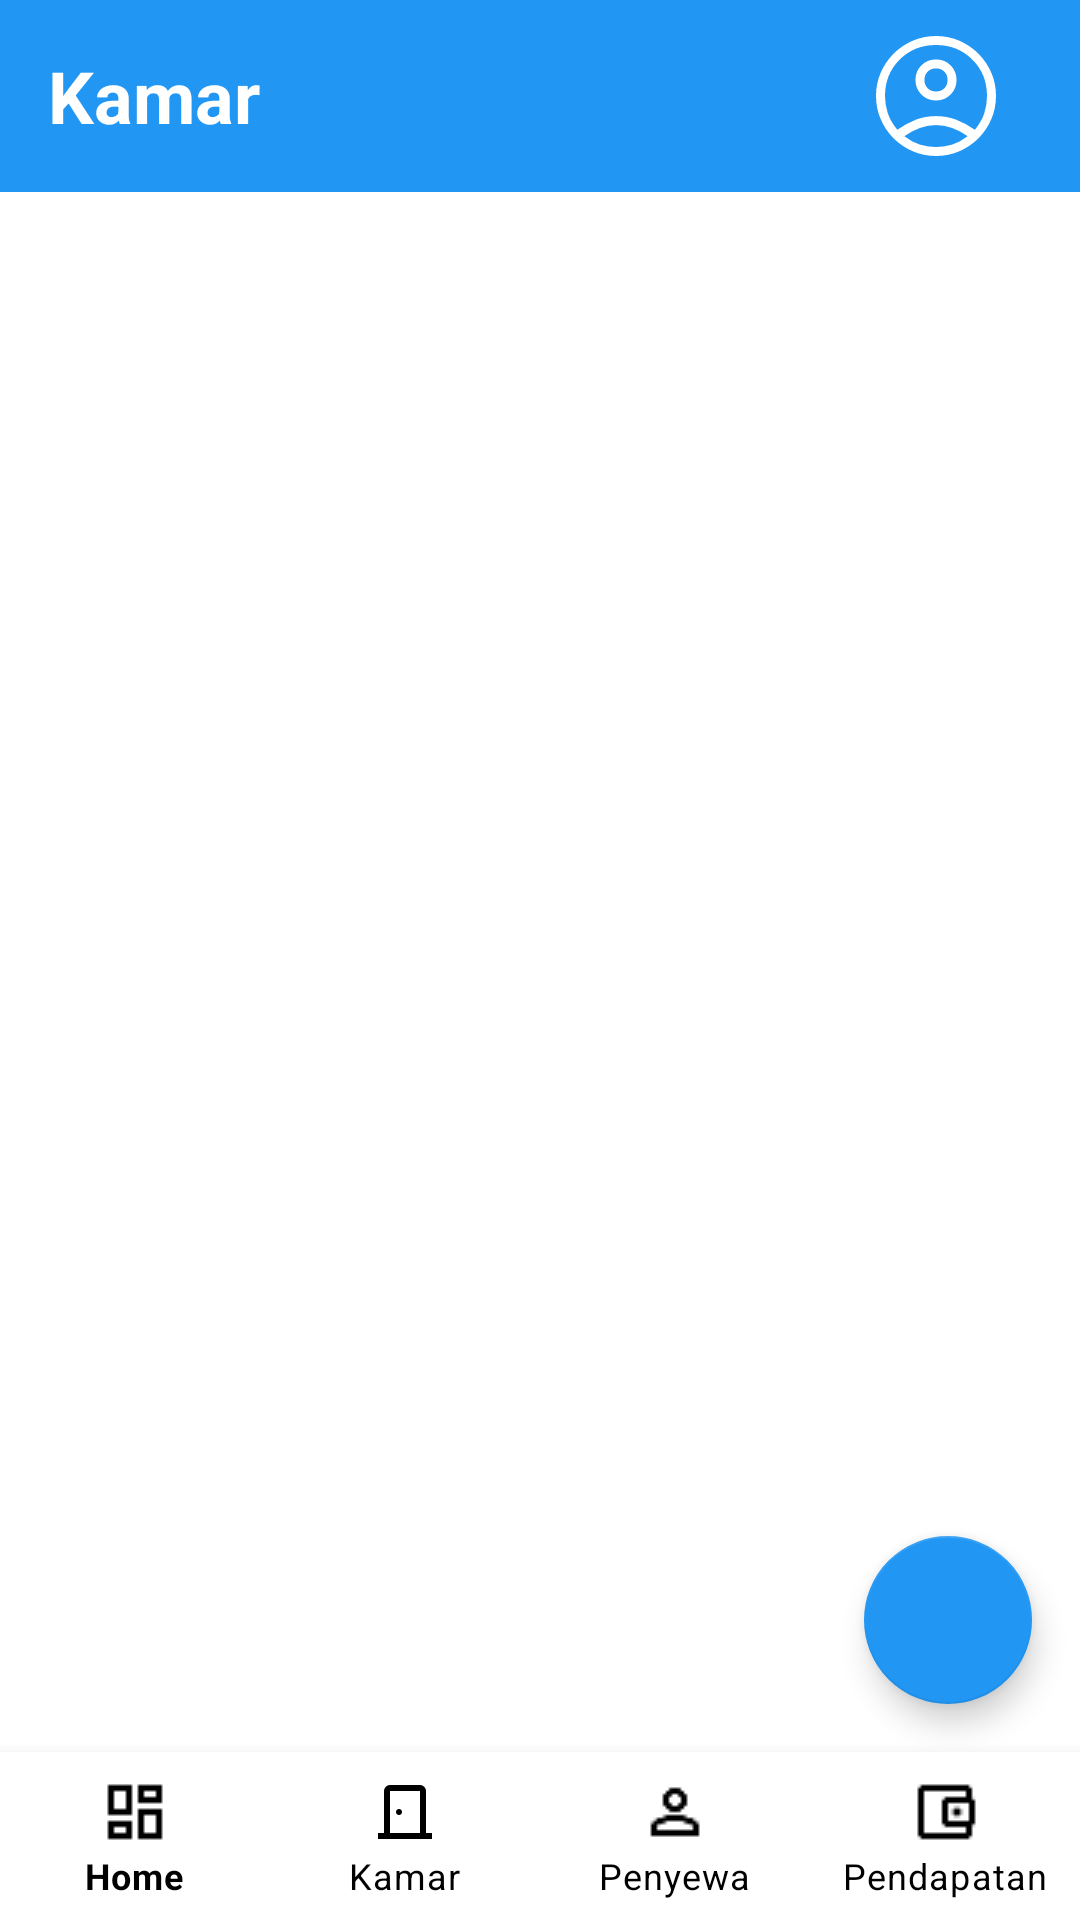

Where icons sit on this 1080*1920 app screen, as (x1, y1, x2, y2):
Profile: (876, 36, 996, 156)
